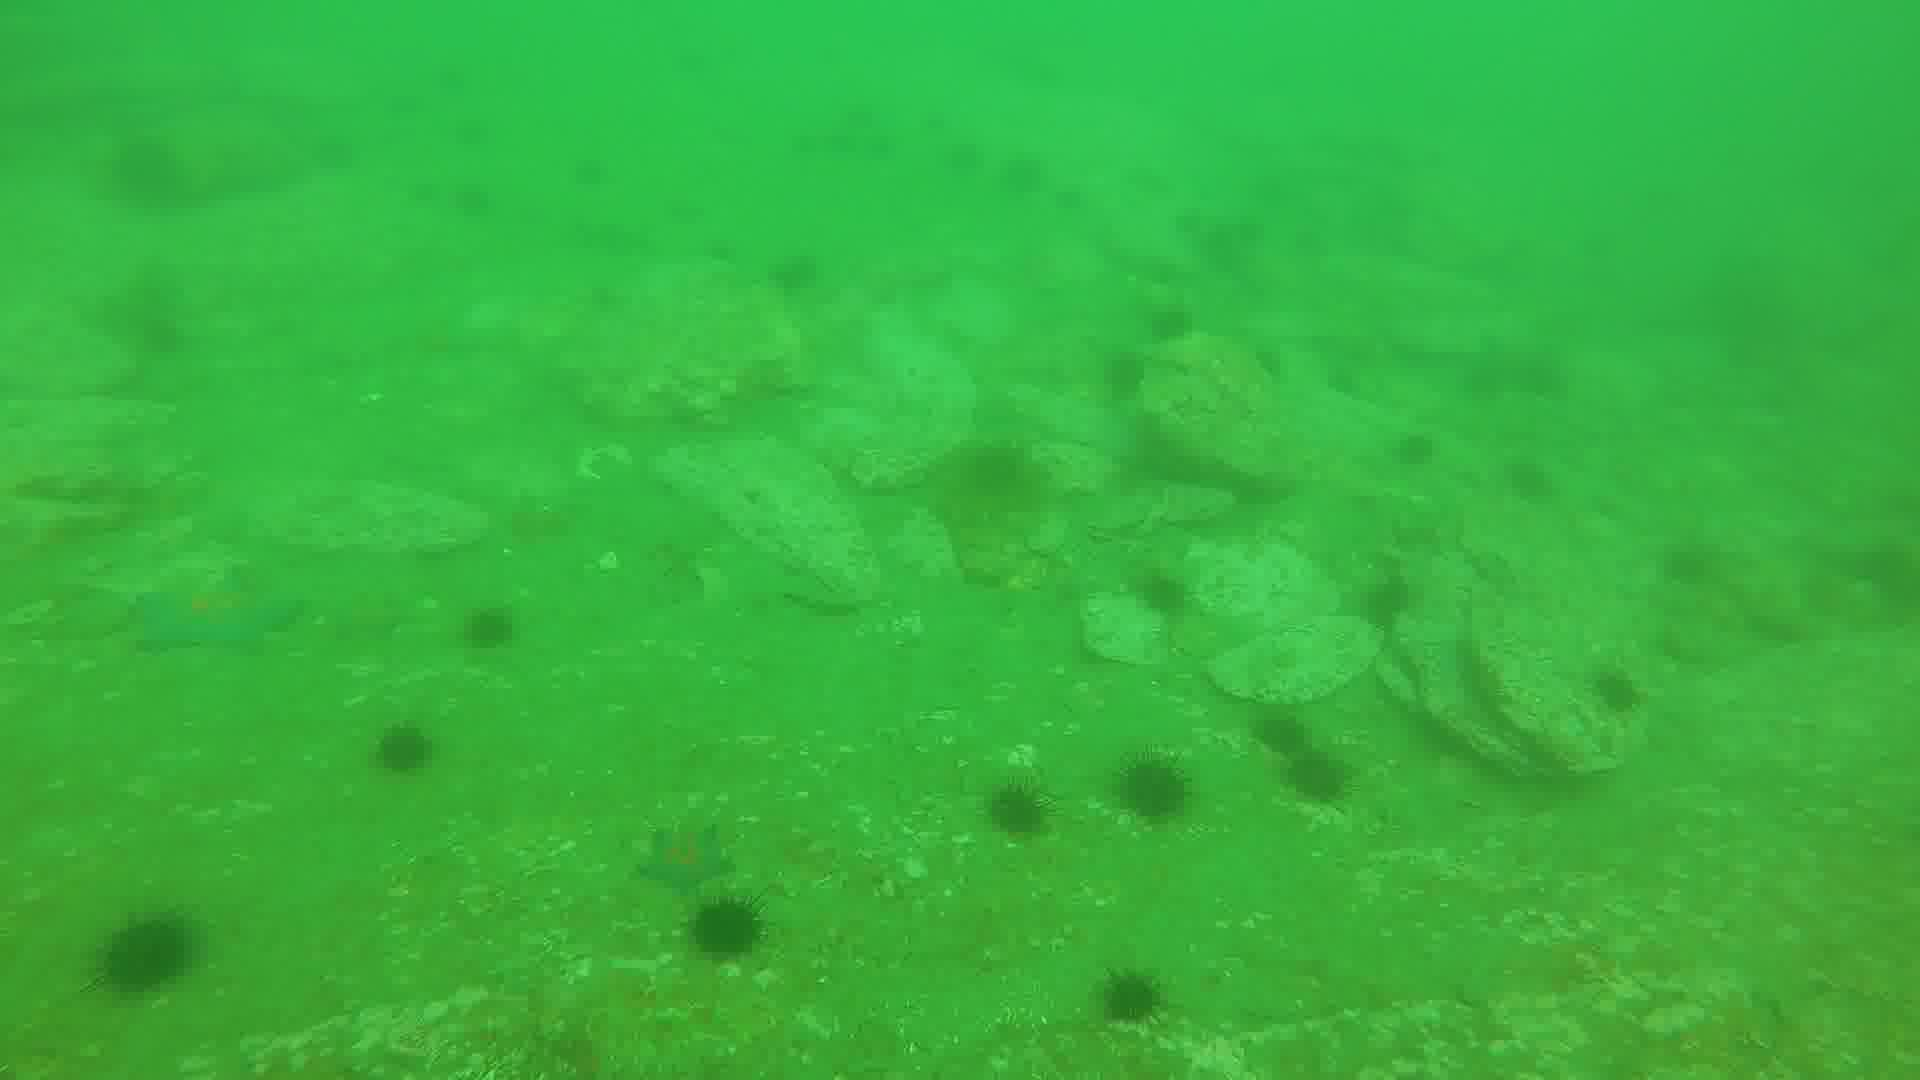echinus: (98, 911, 199, 993), (1114, 752, 1195, 828), (688, 898, 764, 961), (1092, 969, 1168, 1023), (1586, 662, 1654, 723), (1279, 750, 1350, 807), (1361, 582, 1429, 632), (1250, 716, 1317, 766), (992, 778, 1050, 836), (373, 724, 438, 767), (1138, 571, 1192, 618), (1390, 434, 1445, 477), (1507, 459, 1563, 501), (1097, 351, 1146, 398), (465, 609, 520, 650), (767, 258, 823, 294), (1147, 305, 1196, 342)
starfish: (135, 570, 295, 655), (632, 827, 735, 891)
